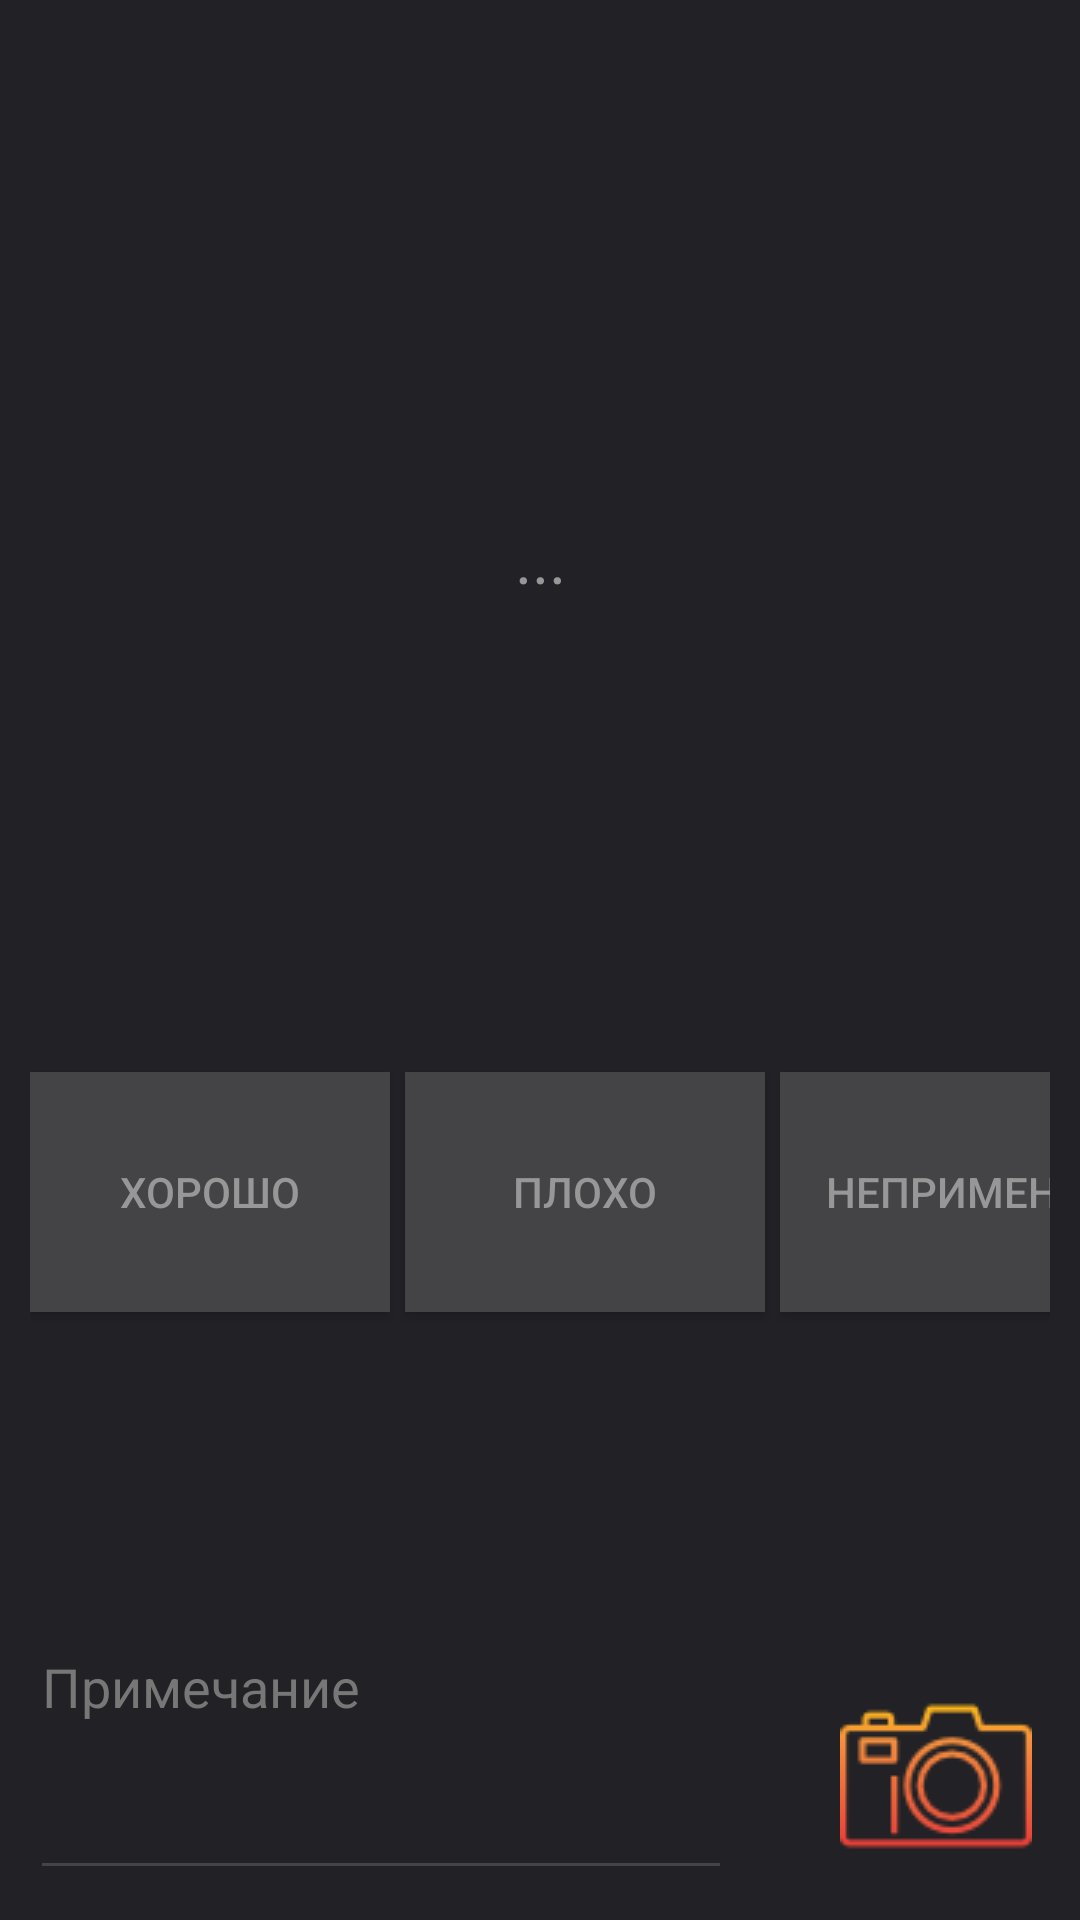

Locate icon controls on the screen. Image size 1080px x 1920px, boxes as (x1, y1, x2, y2).
camera gold: (840, 1703, 1032, 1849)
